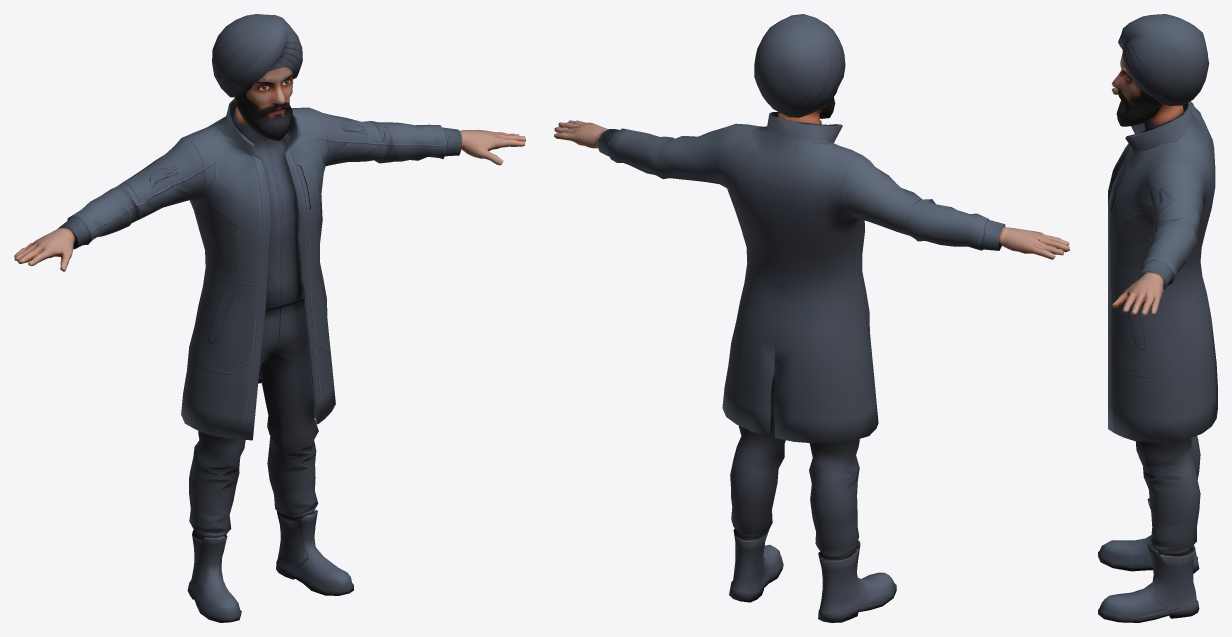
The model's file is minimal-scifi-sikh.glb.
3 views of the same model, side by side, from view 1: azimuth 30°, elevation 25°; view 2: azimuth 150°, elevation 25°; view 3: azimuth 270°, elevation 25° (orthographic).
Visible parts, largest first — view 1: Minimal Scifi Sikh; view 2: Minimal Scifi Sikh; view 3: Minimal Scifi Sikh.
Boxes of the visible parts, box(x1,y1,x2,y2) form: Minimal Scifi Sikh: box(14, 14, 525, 622); Minimal Scifi Sikh: box(554, 14, 1069, 622); Minimal Scifi Sikh: box(1098, 14, 1217, 622).
Size of the model in its own units: 0.9277 by 0.998 by 0.1895.
Materials: 1 (1 with a texture image).
